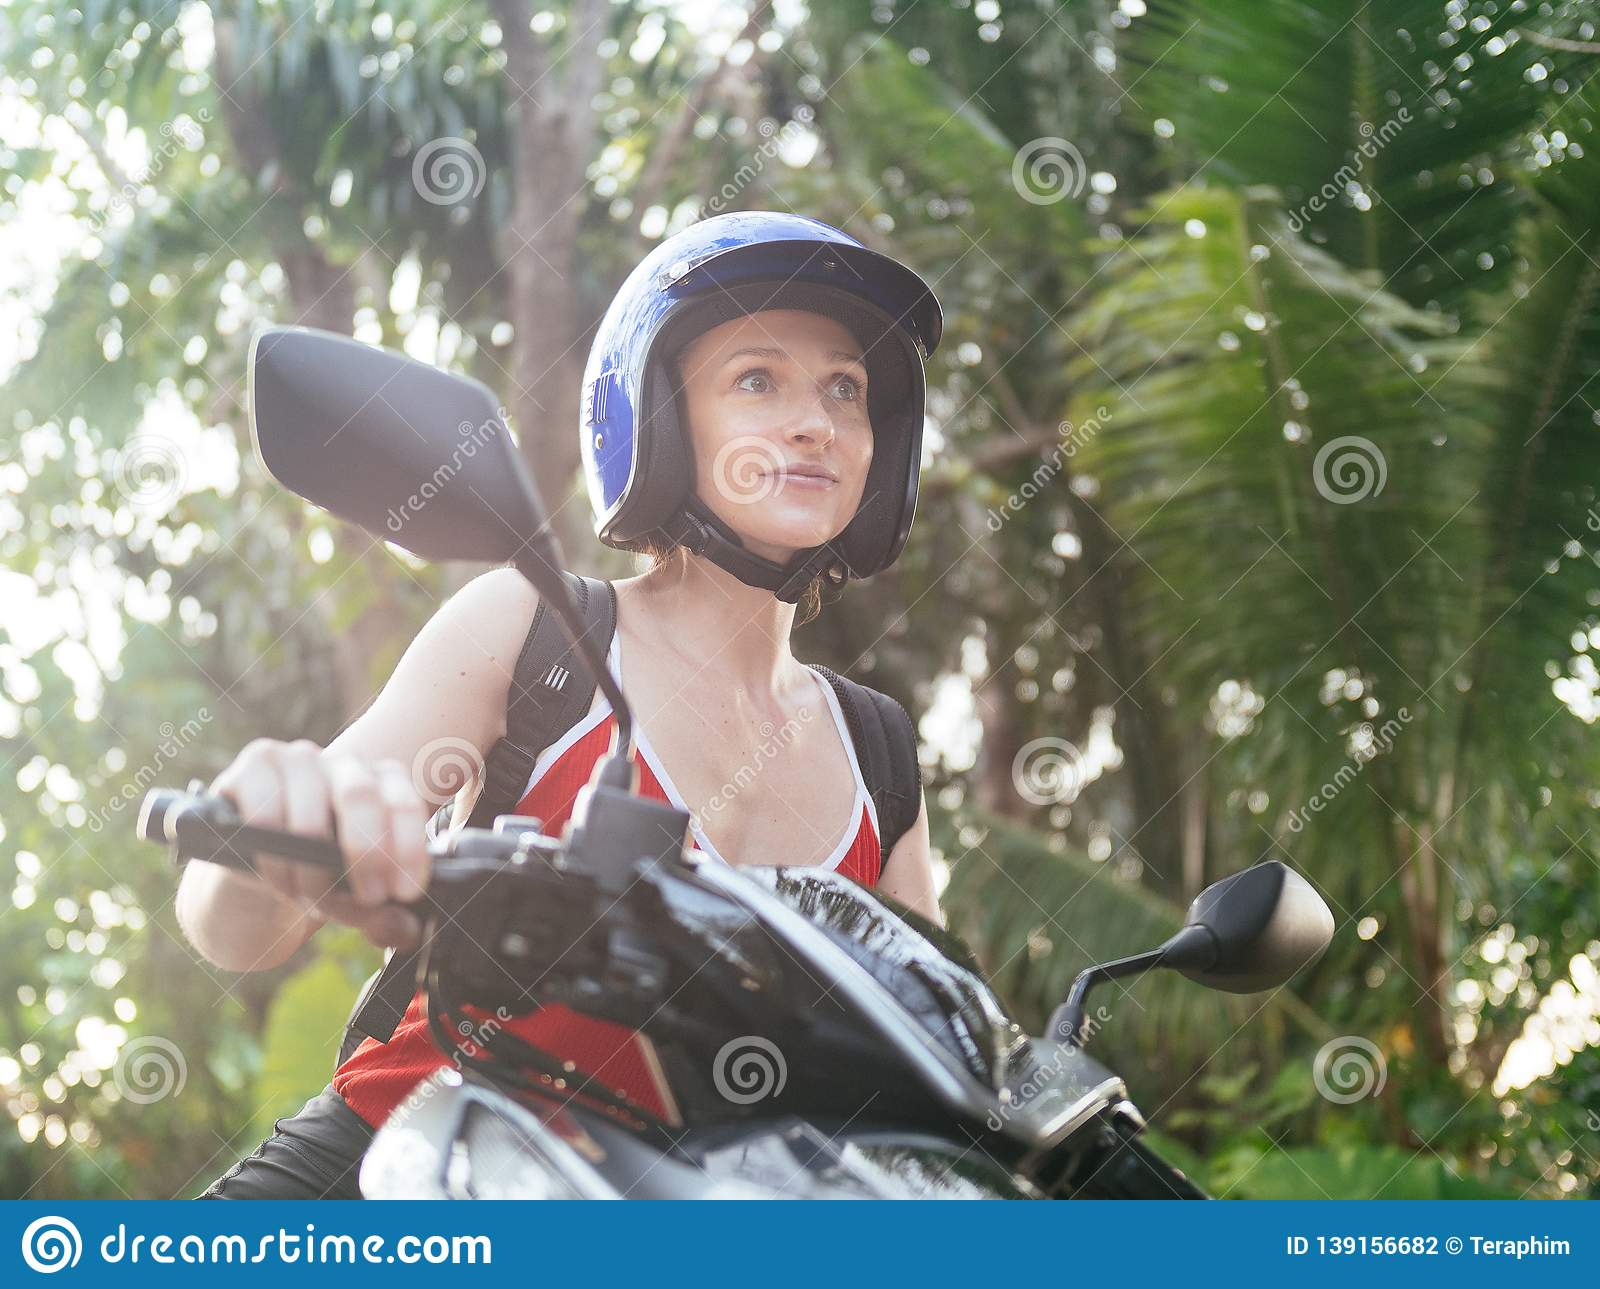helmet: (586, 207, 947, 570)
